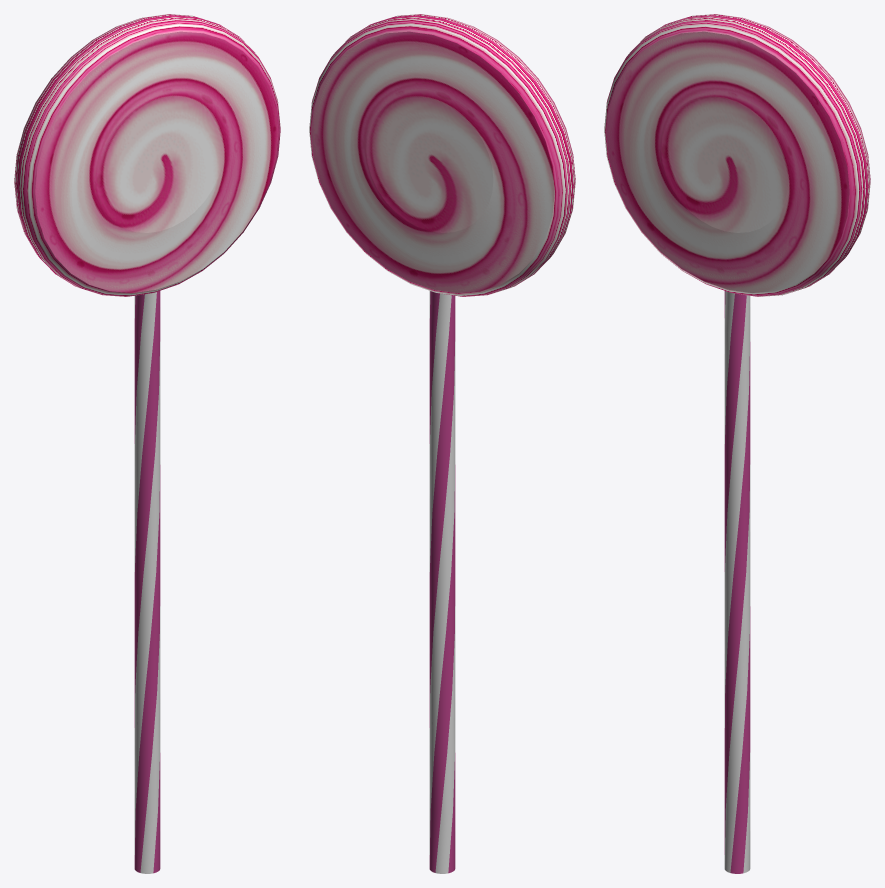
The model's file is candy_pink.fbx.
3 renders of one model, left to right at view 1: azimuth 30°, elevation 25°; view 2: azimuth 150°, elevation 25°; view 3: azimuth 330°, elevation 25°, orthographic.
Visible parts, largest first — view 1: Stick1, Candy1; view 2: Stick1, Candy1; view 3: Stick1, Candy1.
Boxes of the visible parts, x1,y1,x2,y2 form: Stick1: [14, 14, 280, 296]; Candy1: [134, 291, 160, 873]; Stick1: [309, 14, 575, 296]; Candy1: [429, 291, 455, 873]; Stick1: [604, 14, 870, 296]; Candy1: [724, 291, 750, 873].
Size of the model in its own units: 206 by 642 by 34.59.
